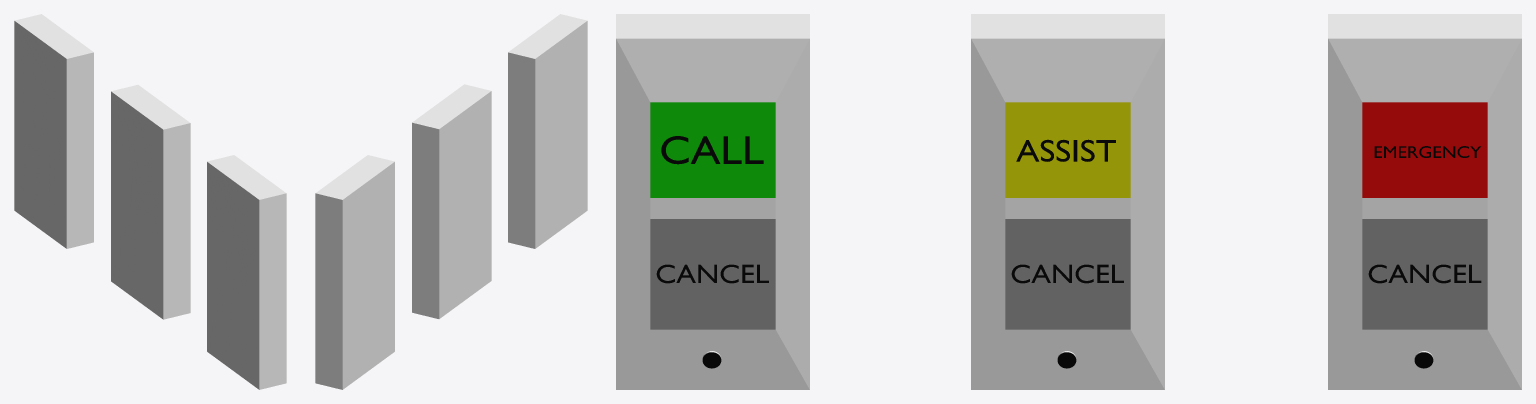
File: emerButtonModel.fbx
3 views of the same model, side by side, from view 1: azimuth 30°, elevation 25°; view 2: azimuth 150°, elevation 25°; view 3: azimuth 270°, elevation 25° (orthographic). The views are drawn at different scales.
Visible parts, largest first — view 1: Circle.002, Circle.003, Circle.001; view 2: Circle.002, Circle.003, Circle.001; view 3: Circle.002, Circle.001, Circle.003, text.006, text.003, text.005, text.001, text.002.
Part boxes in pixels (x1=…): Circle.002: x1=14, y1=14, x2=93, y2=248; Circle.003: x1=207, y1=155, x2=286, y2=389; Circle.001: x1=111, y1=85, x2=190, y2=319; Circle.002: x1=315, y1=155, x2=394, y2=389; Circle.003: x1=508, y1=14, x2=587, y2=248; Circle.001: x1=412, y1=84, x2=491, y2=318; Circle.002: x1=1328, y1=14, x2=1521, y2=389; Circle.001: x1=971, y1=14, x2=1164, y2=389; Circle.003: x1=616, y1=14, x2=809, y2=389; text.006: x1=661, y1=136, x2=763, y2=164; text.003: x1=1016, y1=139, x2=1115, y2=161; text.005: x1=1368, y1=264, x2=1481, y2=283; text.001: x1=656, y1=264, x2=768, y2=283; text.002: x1=1011, y1=264, x2=1123, y2=283.
Size of the model in its own units: 66.7 by 400 by 935.
